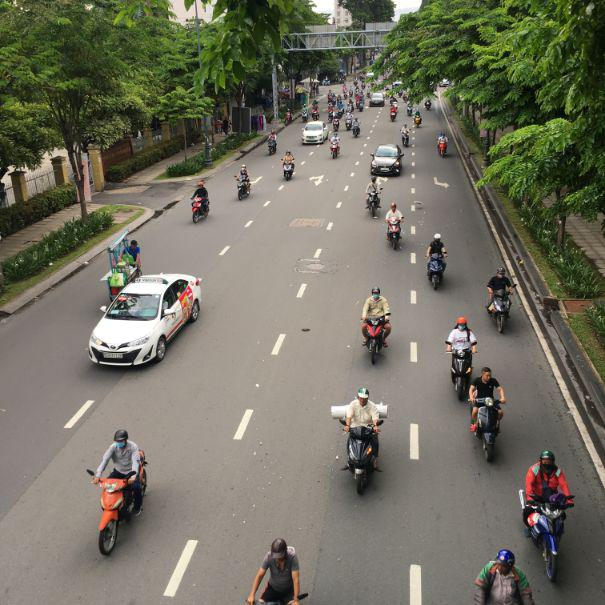car: (90, 272, 202, 368), (370, 145, 404, 177), (302, 121, 327, 144), (370, 94, 386, 107)
motorbike: (94, 468, 148, 556), (521, 492, 569, 580), (343, 421, 381, 496), (471, 398, 506, 462), (449, 341, 477, 403), (487, 287, 514, 335), (361, 316, 392, 356), (426, 253, 445, 288), (386, 214, 403, 248), (237, 171, 253, 200), (192, 198, 209, 224), (282, 153, 296, 181)
